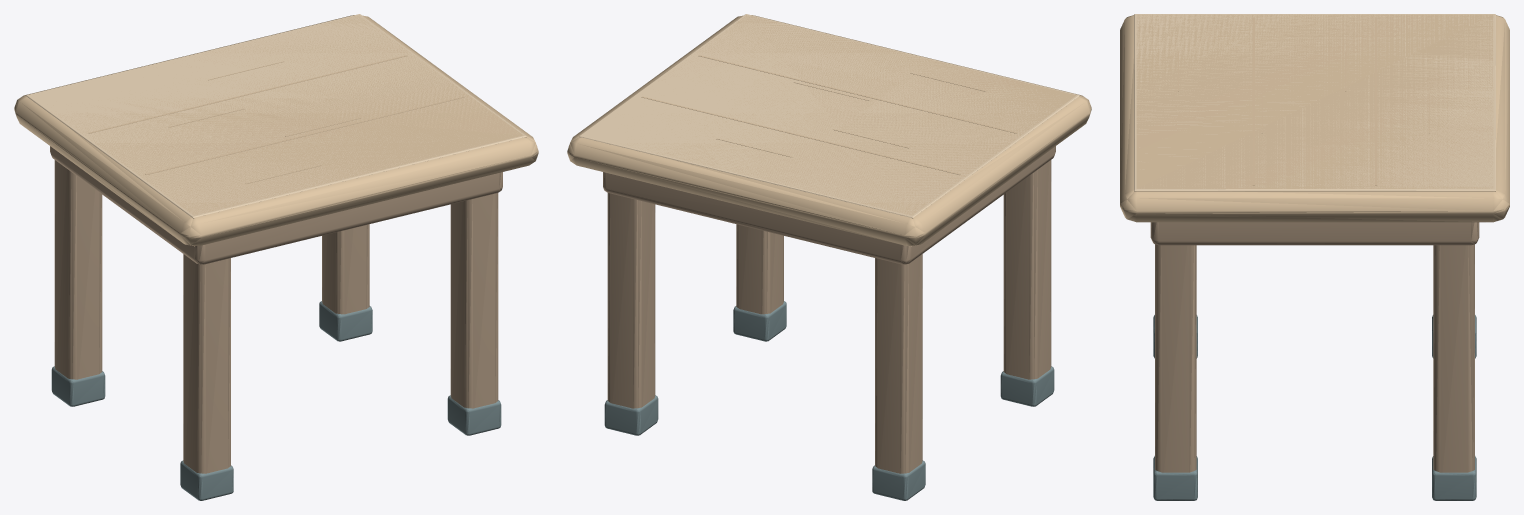
File: DiningTable.fbx
3 renders of one model, left to right at view 1: azimuth 30°, elevation 25°; view 2: azimuth 150°, elevation 25°; view 3: azimuth 270°, elevation 25°, orthographic. The views are drawn at different scales.
Parts seen in each view (by area): view 1: DiningTable; view 2: DiningTable; view 3: DiningTable.
Part boxes in pixels (x1=…): DiningTable: x1=14, y1=14, x2=538, y2=500; DiningTable: x1=567, y1=14, x2=1091, y2=500; DiningTable: x1=1120, y1=14, x2=1509, y2=500.
Size of the model in its own units: 1.6 by 1.27 by 1.4.
